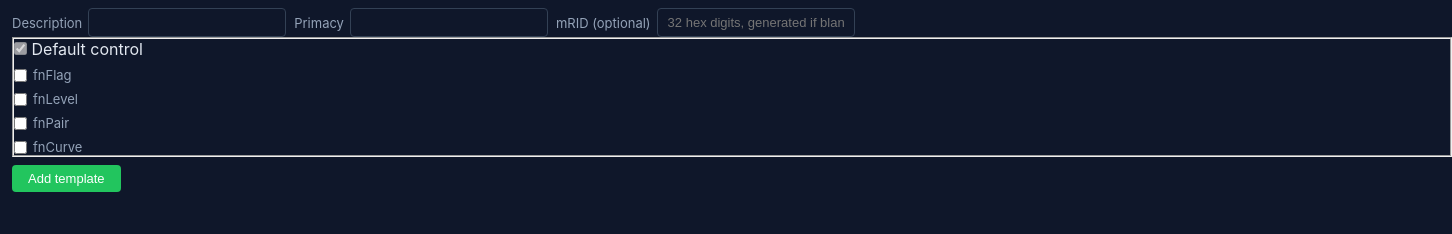
Test: DerProgramForm create › shows a refusal exactly as the caller reports it and keeps what was typed
In the field labelled "Description": (187, 22) [88,8,286,37], type "roof fleet"
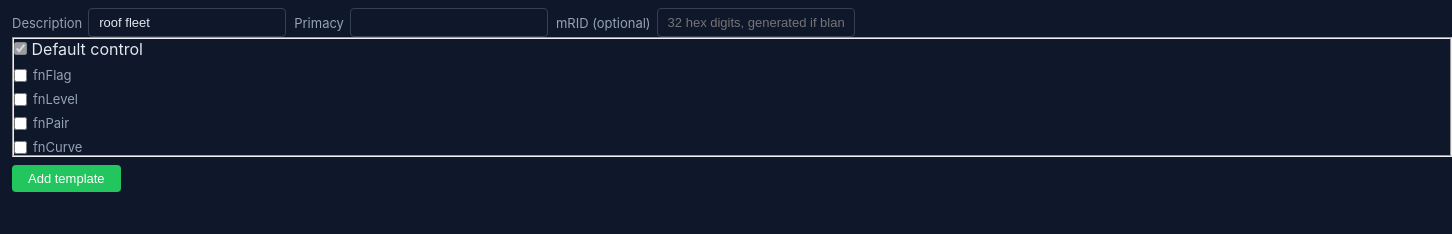
In the field labelled "Primacy": (449, 22) [350,8,548,37], type "65"
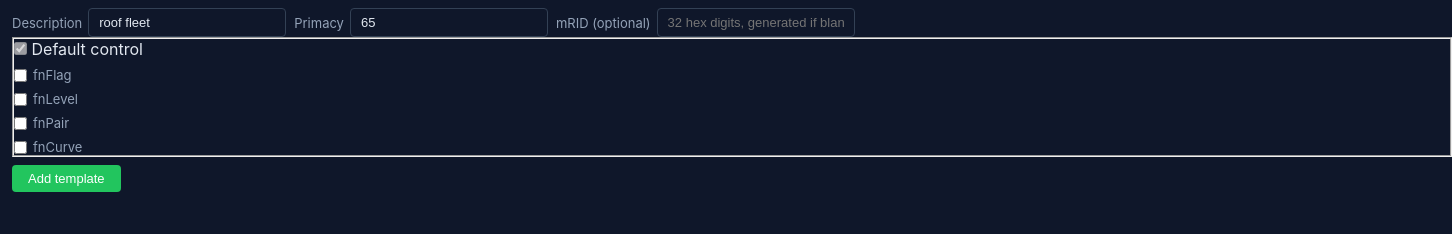
Click the checkbox with test id "control-fn-fnFlag": (20, 75) [14,68,27,82]
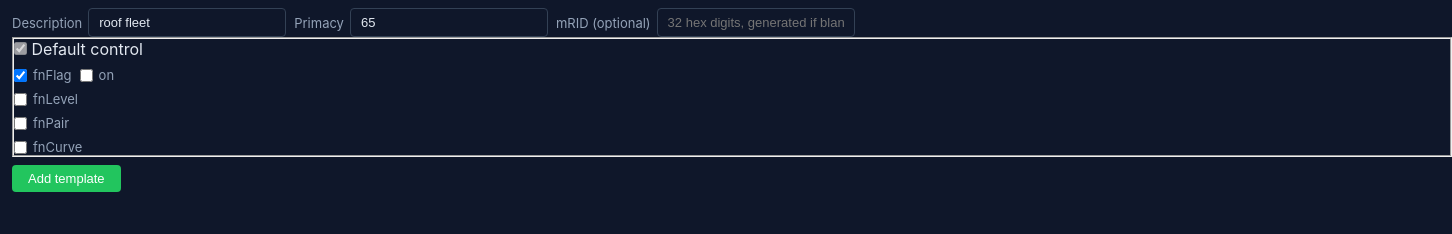
Click the button "Add template": (66, 178) [12,165,121,192]
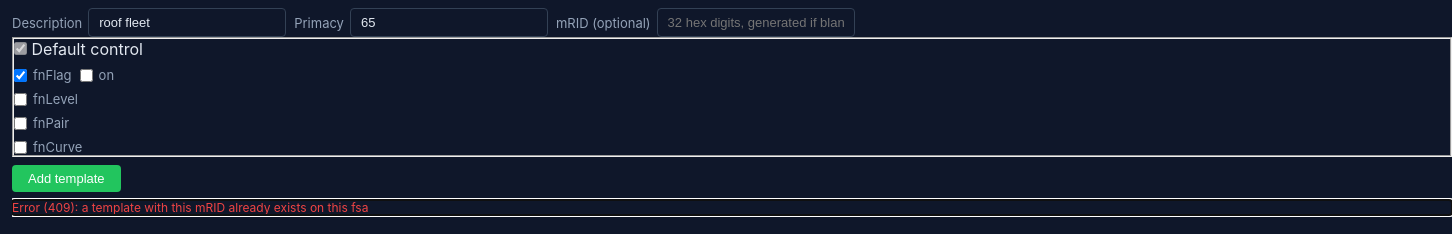
Check: the message reads "Error (409): a template with this mRID already exists on this fsa", box [12,200,368,215]
